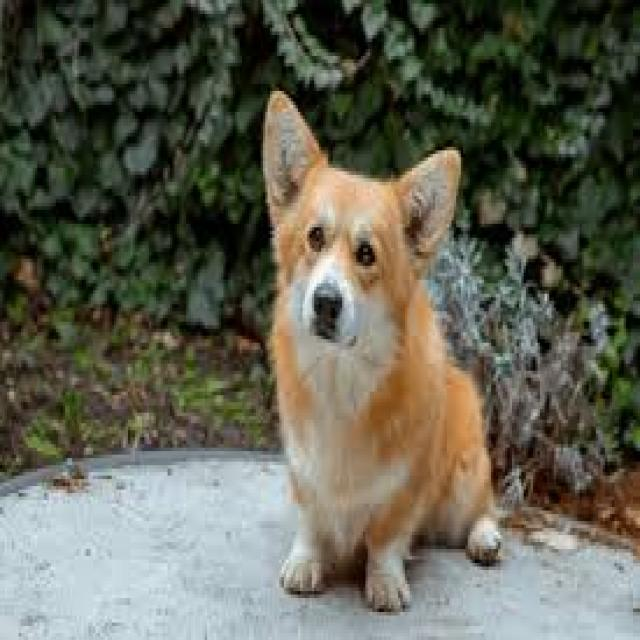CORGI: (246, 80, 520, 594)
